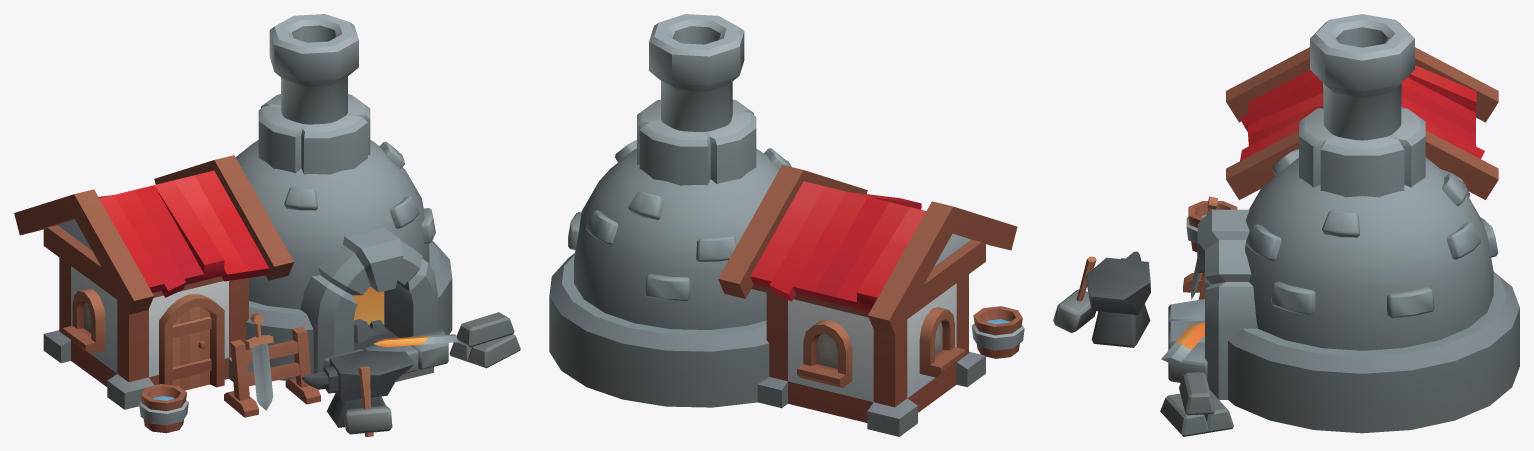
The model's file is blacksmith_red.glb.
3 renders of one model, left to right at view 1: azimuth 30°, elevation 25°; view 2: azimuth 150°, elevation 25°; view 3: azimuth 270°, elevation 25°, orthographic. The views are drawn at different scales.
Visible parts, largest first — view 1: building_blacksmith_red; view 2: building_blacksmith_red; view 3: building_blacksmith_red.
Part boxes in pixels (x1,y1,x2,y2): building_blacksmith_red: (14,14,520,436); building_blacksmith_red: (549,14,1024,436); building_blacksmith_red: (1053,14,1519,436).
Size of the model in its own units: 1.29 by 0.9851 by 1.25.
1 material, 1 textured.
